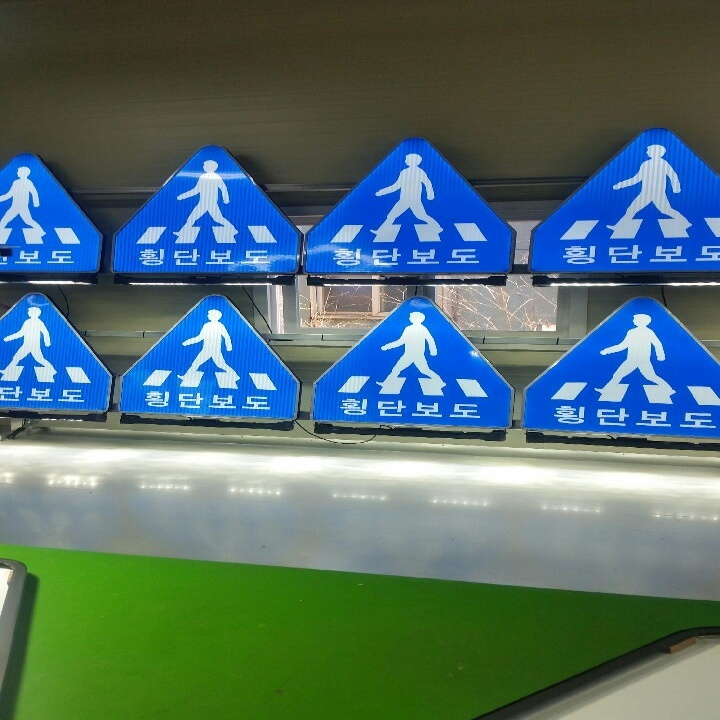cross: (153, 147, 265, 243), (611, 137, 705, 239), (361, 149, 463, 241), (595, 301, 683, 399), (375, 305, 453, 393), (171, 303, 245, 387), (3, 303, 73, 379), (3, 153, 57, 251)
